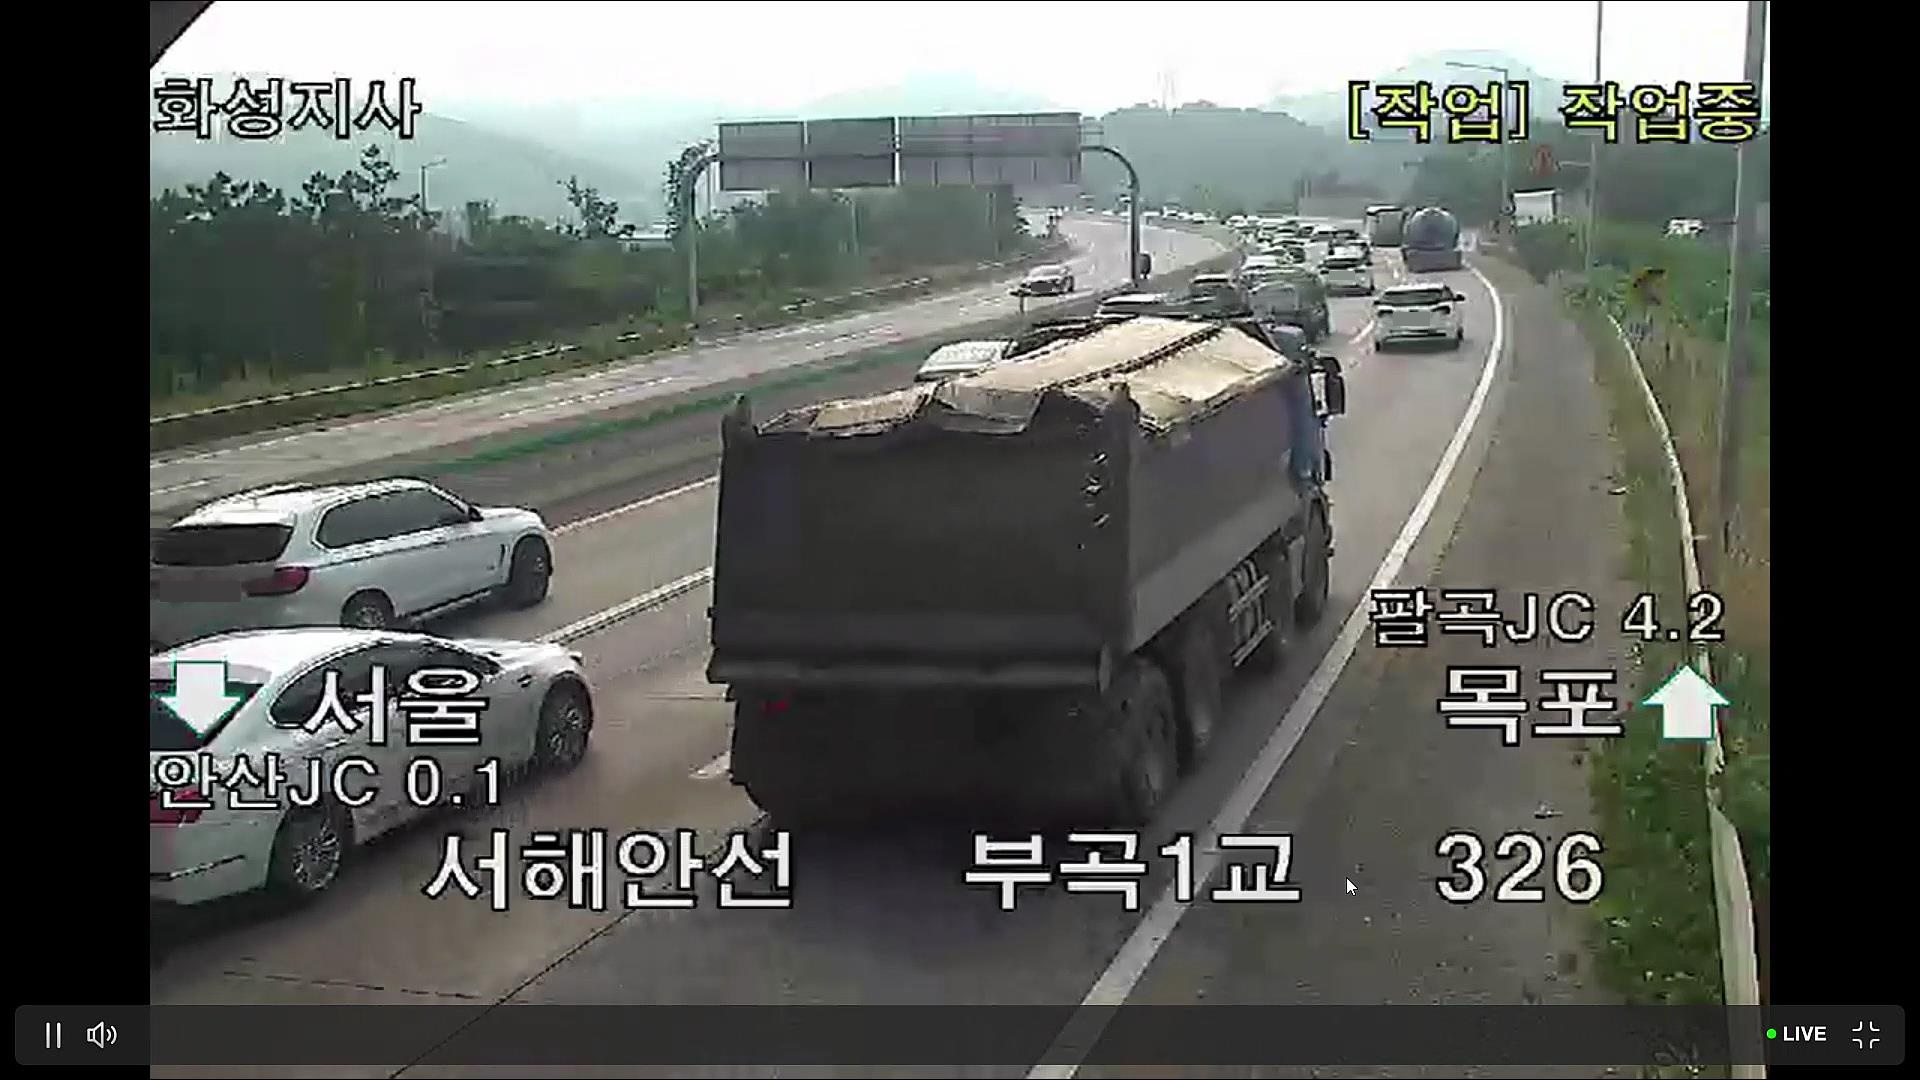정상차량: (705, 307, 1345, 828)
